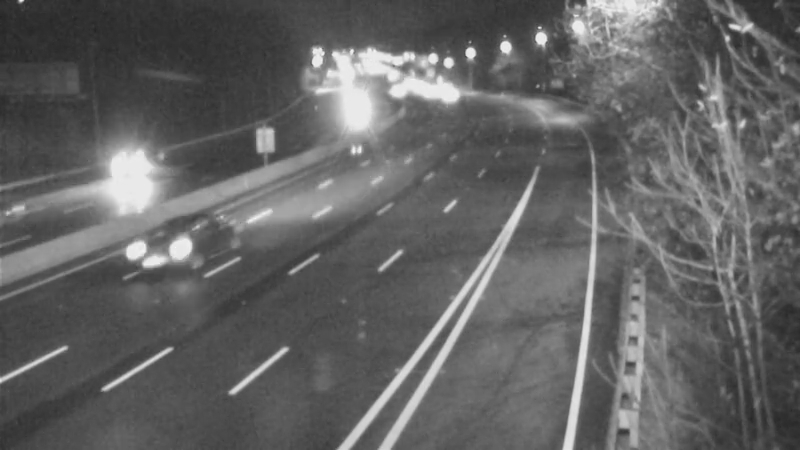vehicle: (124, 207, 204, 287), (90, 122, 170, 202), (1, 174, 67, 254), (420, 68, 470, 118), (328, 91, 378, 141)
